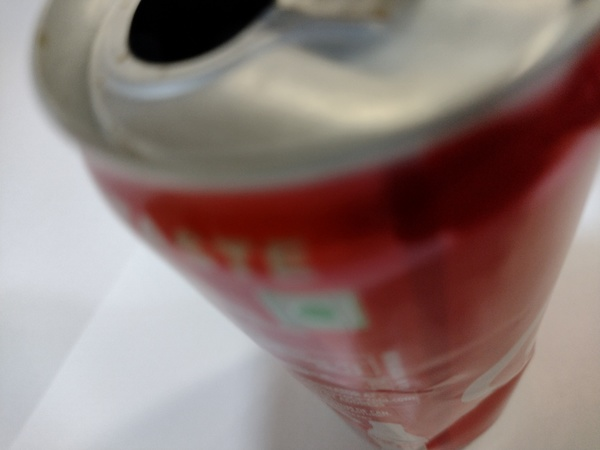can: (23, 1, 599, 445)
